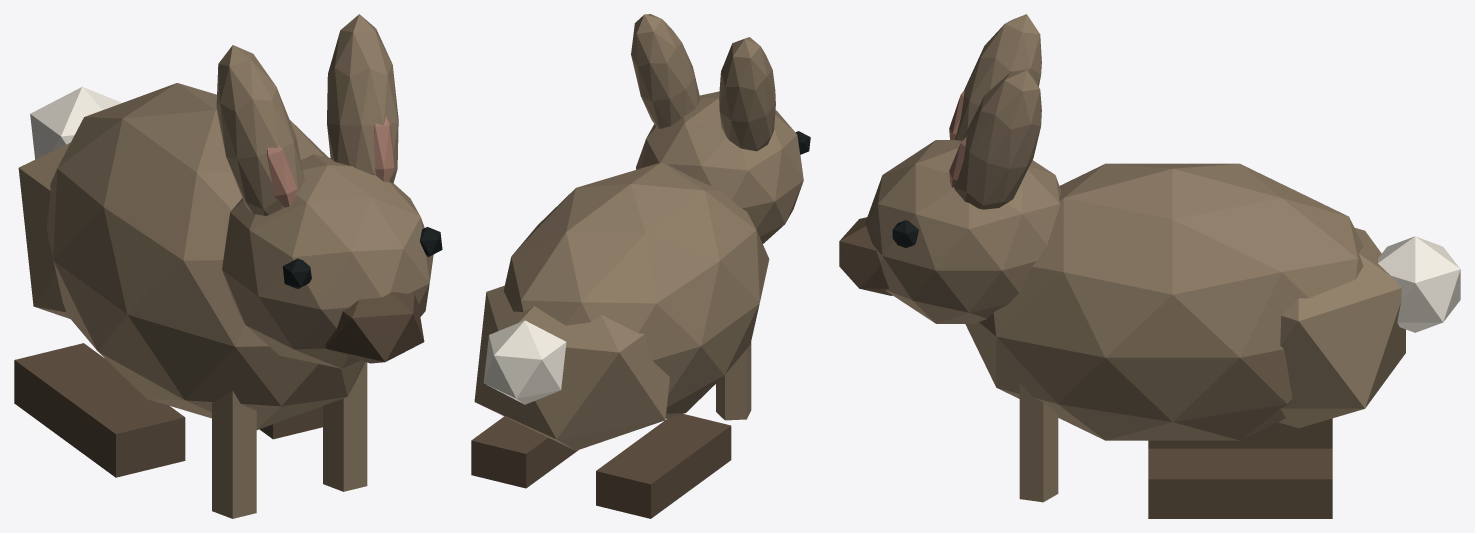
File: fauna_rabbit.glb
The picture shows the model from 3 angles, left to right: view 1: azimuth 30°, elevation 25°; view 2: azimuth 150°, elevation 25°; view 3: azimuth 270°, elevation 25°; orthographic projection. The views are drawn at different scales.
Parts seen in each view (by area): view 1: fauna_rabbit; view 2: fauna_rabbit; view 3: fauna_rabbit.
Part boxes in pixels (bbox=[...]): fauna_rabbit: bbox=[14, 14, 442, 518]; fauna_rabbit: bbox=[471, 14, 810, 518]; fauna_rabbit: bbox=[839, 14, 1460, 518].
Bounding box in the file's own units: 0.2624 × 0.47 × 0.6194.
